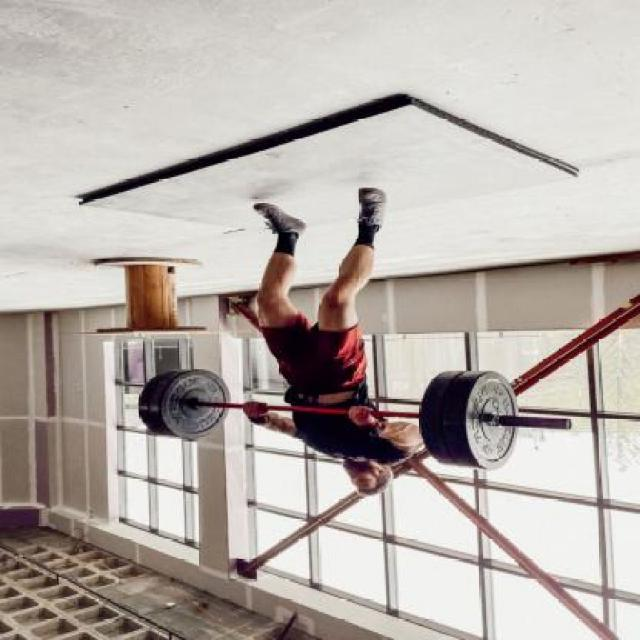Barbell: (556, 417, 578, 432)
